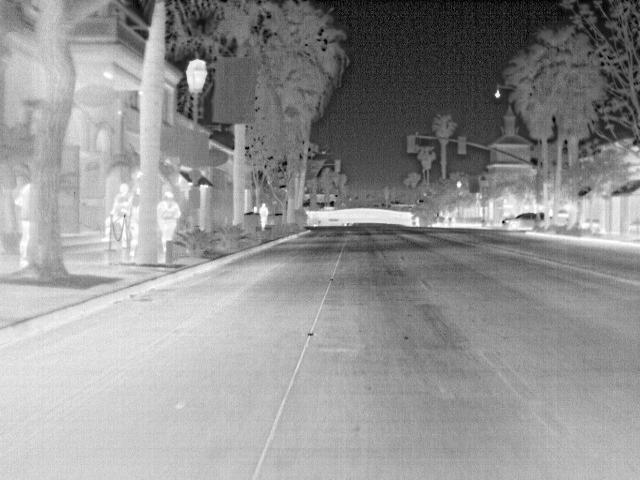car: (502, 210, 539, 231)
person: (12, 181, 34, 267), (159, 190, 183, 252), (111, 180, 134, 218), (258, 202, 270, 232)
